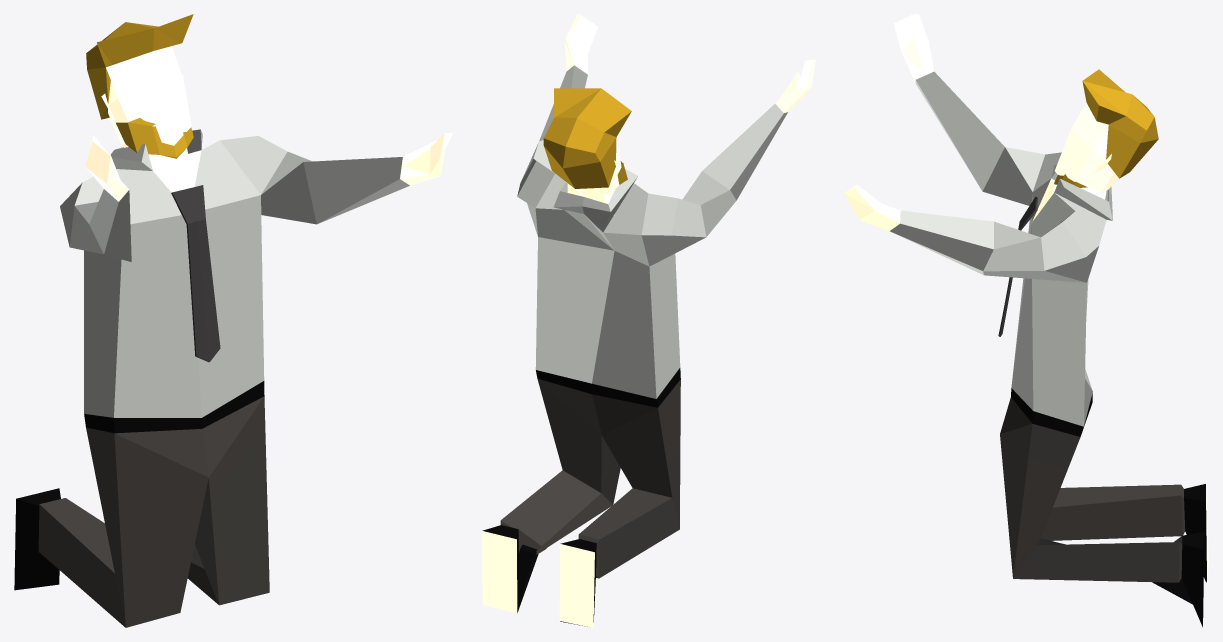
Rendered from BowMan3.fbx.
The picture shows the model from 3 angles, left to right: view 1: azimuth 30°, elevation 25°; view 2: azimuth 150°, elevation 25°; view 3: azimuth 270°, elevation 25°; orthographic projection. The views are drawn at different scales.
Visible parts, largest first — view 1: man_02; view 2: man_02; view 3: man_02.
Boxes of the visible parts, x1,y1,x2,y2 form: man_02: [14, 14, 453, 627]; man_02: [482, 14, 815, 627]; man_02: [844, 14, 1208, 627].
Bounding box in the file's own units: 326 × 576 × 368.
